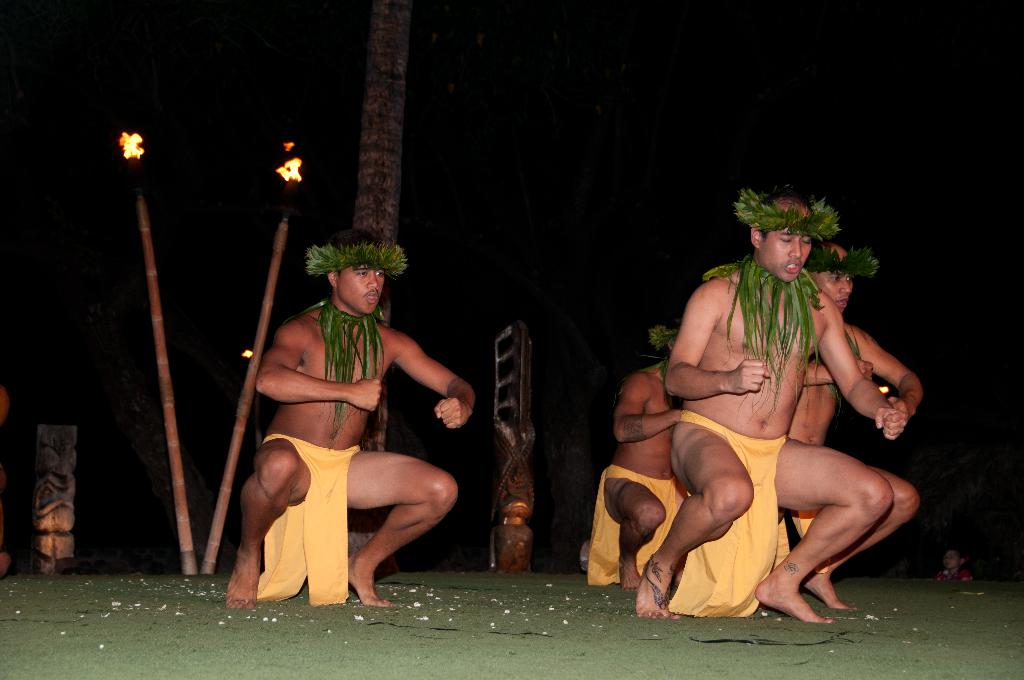Human_hand: (732, 357, 771, 398), (434, 395, 470, 432), (874, 407, 909, 444), (351, 378, 382, 413), (889, 395, 913, 419), (856, 359, 876, 382)
